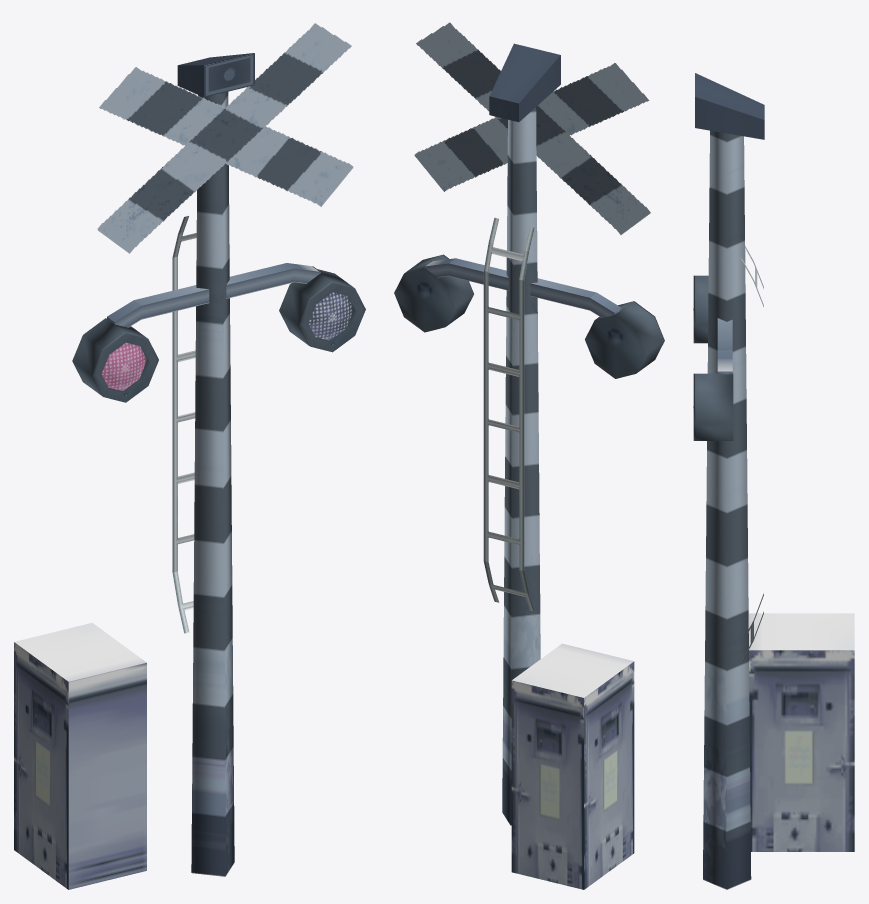
File: RailCrossing.fbx
The picture shows the model from 3 angles, left to right: view 1: azimuth 30°, elevation 25°; view 2: azimuth 150°, elevation 25°; view 3: azimuth 270°, elevation 25°; orthographic projection. The views are drawn at different scales.
Parts seen in each view (by area): view 1: Pole; view 2: Pole; view 3: Pole.
Boxes of the visible parts, box(x1,y1,x2,y2) form: Pole: box(14, 23, 365, 889); Pole: box(394, 22, 664, 889); Pole: box(693, 73, 854, 889).
Size of the model in its own units: 287 by 834 by 152.
